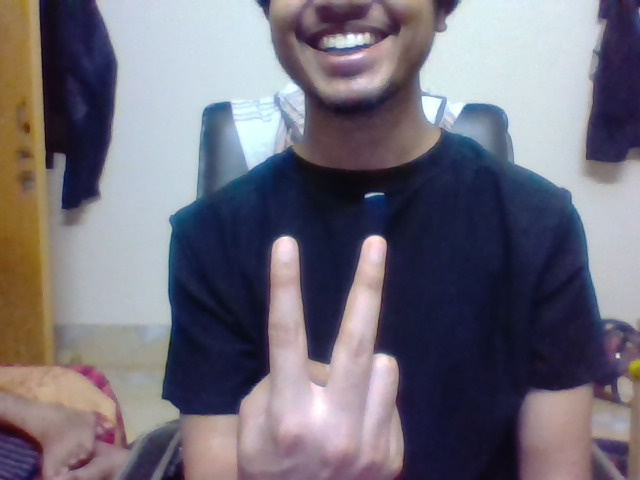V: (263, 222, 391, 375)
